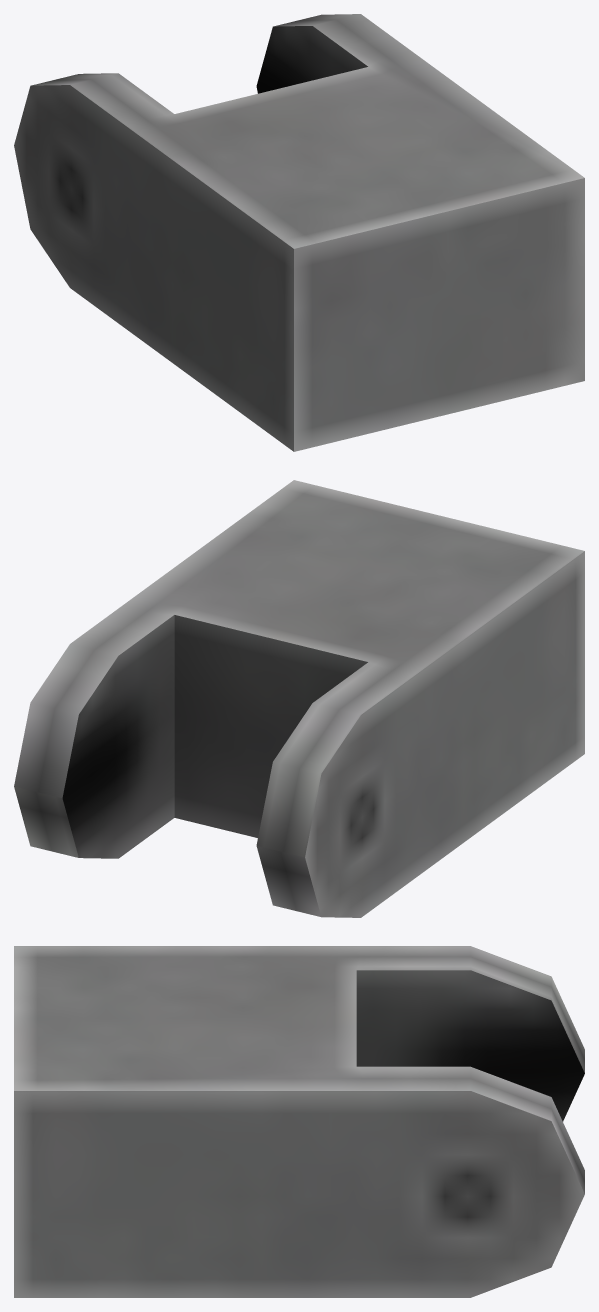
3 renders of one model, top to bottom at view 1: azimuth 30°, elevation 25°; view 2: azimuth 150°, elevation 25°; view 3: azimuth 270°, elevation 25°, orthographic.
Visible parts, largest first — view 1: base; view 2: base; view 3: base.
Boxes of the visible parts, bbox=[...] form: base: bbox=[14, 14, 584, 451]; base: bbox=[14, 480, 584, 917]; base: bbox=[14, 946, 584, 1297].
Bounding box in the file's own units: 0.075 × 0.05 × 0.125.
Materials: 1 (1 with a texture image).
